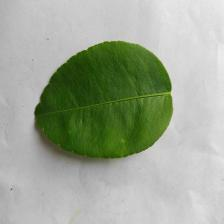greening: (30, 37, 180, 165)
